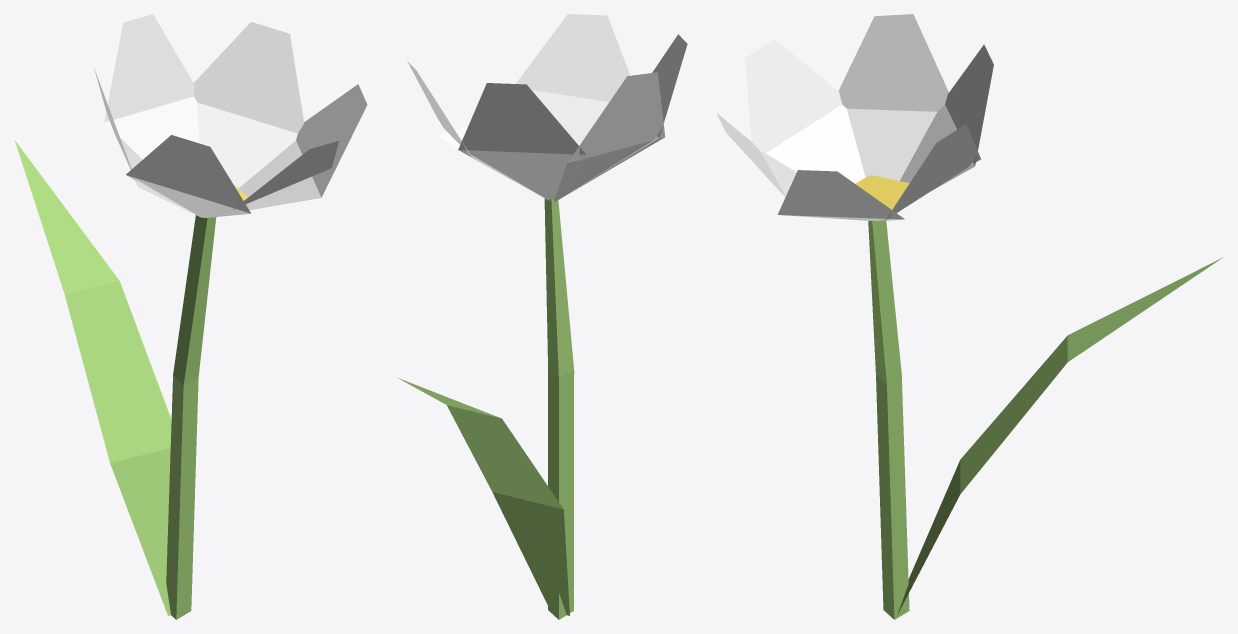
The model's file is Flower_e_OneS_06.fbx.
The picture shows the model from 3 angles, left to right: view 1: azimuth 30°, elevation 25°; view 2: azimuth 150°, elevation 25°; view 3: azimuth 270°, elevation 25°; orthographic projection.
Parts seen in each view (by area): view 1: Flower_e_OneS_06; view 2: Flower_e_OneS_06; view 3: Flower_e_OneS_06.
Part boxes in pixels (x1,y1,x2,y2): Flower_e_OneS_06: [14, 14, 367, 619]; Flower_e_OneS_06: [398, 14, 687, 619]; Flower_e_OneS_06: [716, 14, 1222, 619].
Bounding box in the file's own units: 14.62 × 32.95 × 26.88.
